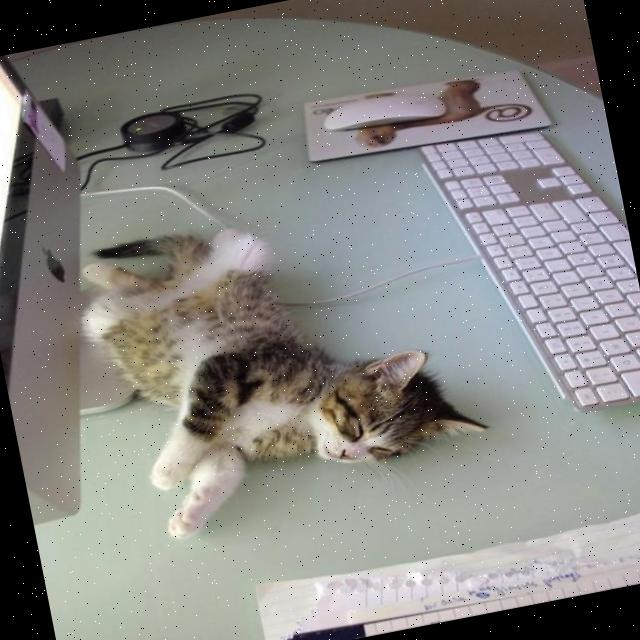cat: (56, 159, 511, 567)
